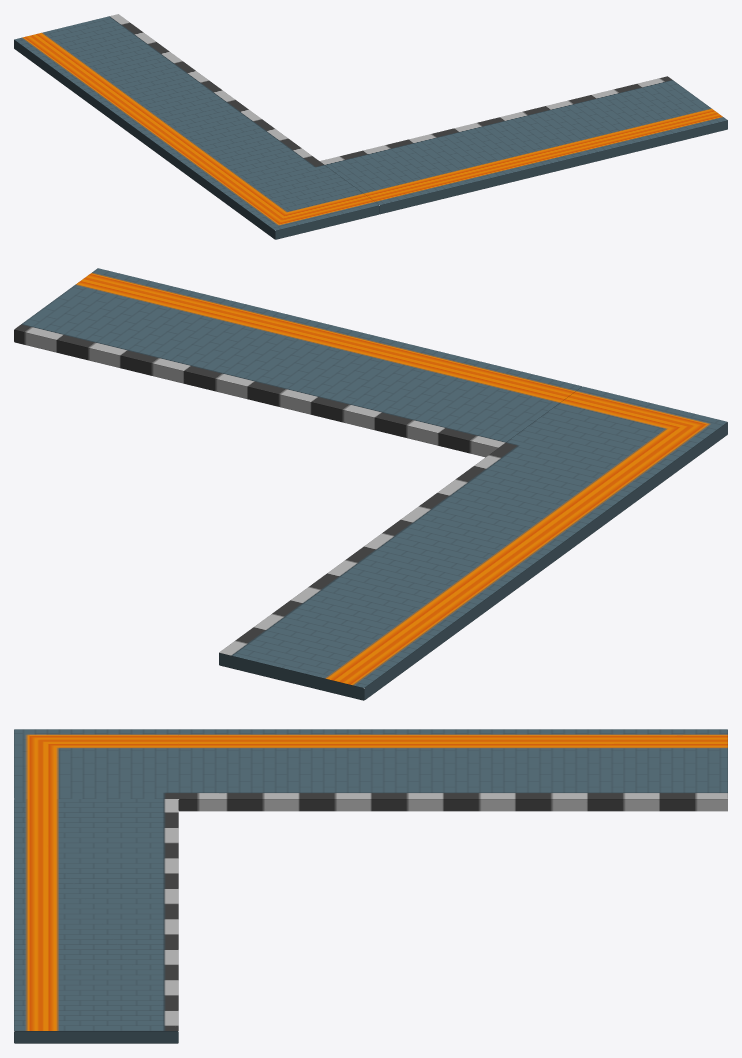
File: turnfootpath.fbx
3 renders of one model, top to bottom at view 1: azimuth 30°, elevation 25°; view 2: azimuth 150°, elevation 25°; view 3: azimuth 270°, elevation 25°, orthographic. The views are drawn at different scales.
Visible parts, largest first — view 1: plane; view 2: plane; view 3: plane.
Boxes of the visible parts, box(x1,y1,x2,y2) form: plane: box(14, 14, 727, 239); plane: box(14, 268, 727, 700); plane: box(14, 729, 727, 1043).
Size of the model in its own units: 1300 by 25 by 1300.
1 material, 1 textured.
